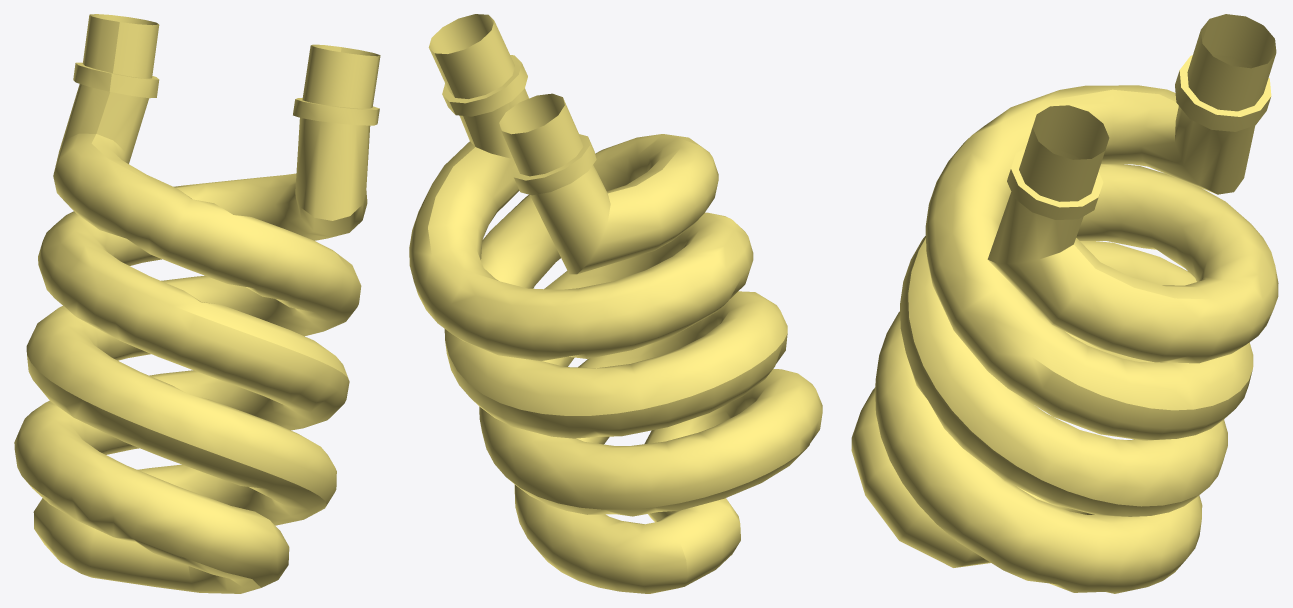
The model's file is OficeDecors_Light_0.obj.
3 renders of one model, left to right at view 1: azimuth 30°, elevation 25°; view 2: azimuth 150°, elevation 25°; view 3: azimuth 270°, elevation 25°, orthographic. The views are drawn at different scales.
Parts seen in each view (by area): view 1: OficeDecors_Light_0; view 2: OficeDecors_Light_0; view 3: OficeDecors_Light_0.
Part boxes in pixels (x1=…): OficeDecors_Light_0: x1=14, y1=14, x2=380, y2=593; OficeDecors_Light_0: x1=409, y1=14, x2=822, y2=593; OficeDecors_Light_0: x1=851, y1=14, x2=1278, y2=593.
Size of the model in its own units: 0.044 by 0.0594 by 0.0416.
